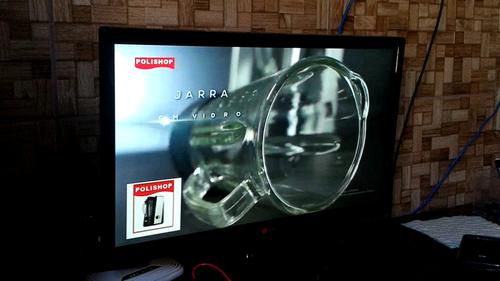Polishop #1: (125, 176, 180, 237)
